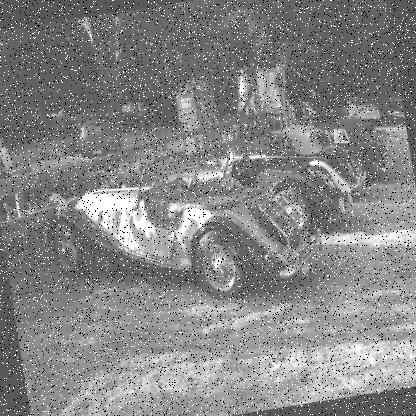Car: (33, 87, 415, 329), (76, 116, 124, 161), (118, 97, 154, 127), (48, 102, 84, 126)
